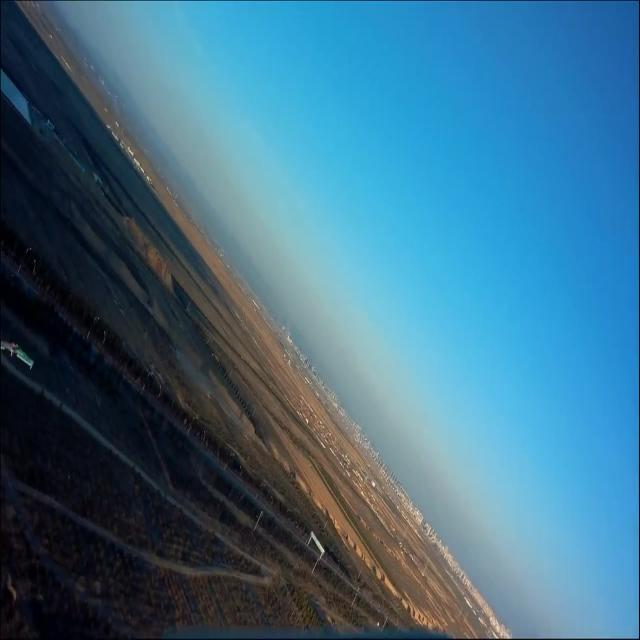iha: (0, 332, 35, 372)
